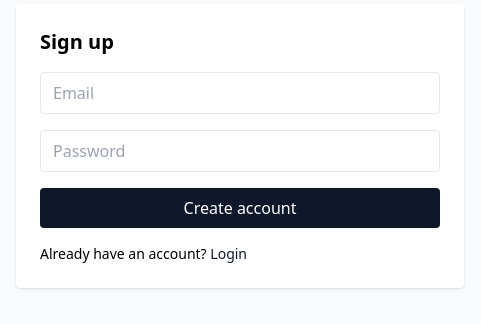
it: Signup › should display error message on signup failure
This screenshot has width=481, height=324.
Type "existing@example.com" into the field with placeholder "Email".
click(240, 93); type("existing@example.com")  # box [40, 72, 440, 114]
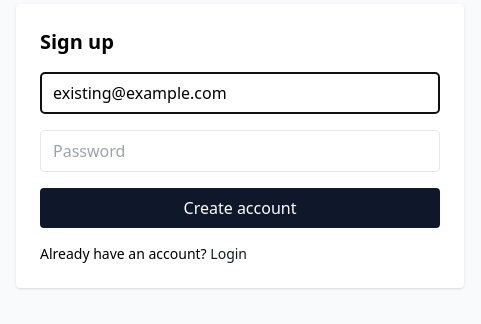
Type "password123" into the password field with placeholder "Password".
click(240, 151); type("password123")  # box [40, 130, 440, 172]
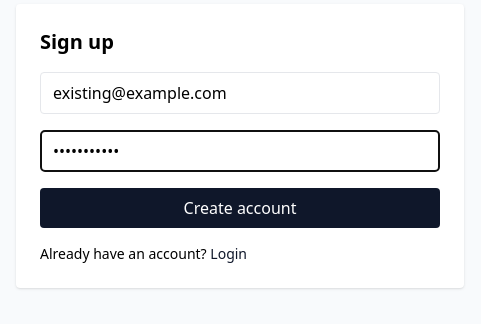
Click the button "Create account".
click(240, 208)  # box [40, 188, 440, 228]
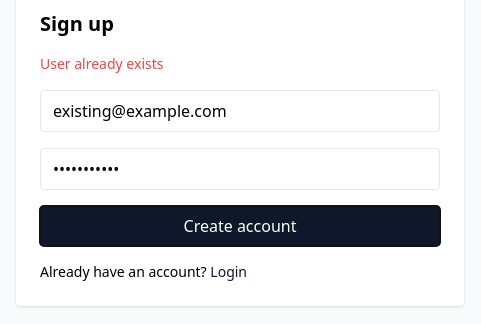
Expected: the text "User already exists" is shown, [40, 54, 164, 73]
